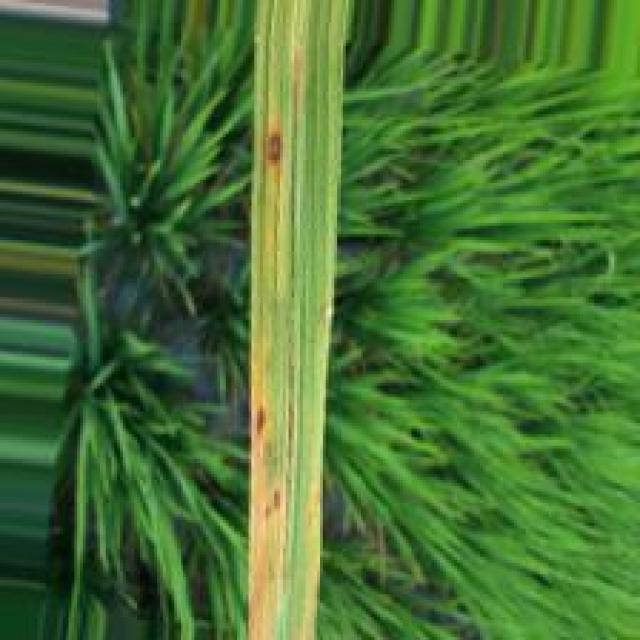Brown_Spot: (264, 125, 292, 168), (265, 486, 286, 525), (252, 402, 270, 441)
